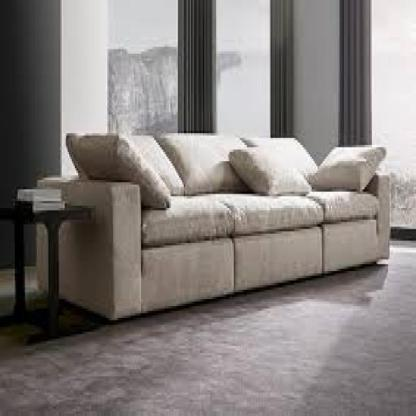Sofa: (12, 112, 404, 312)
